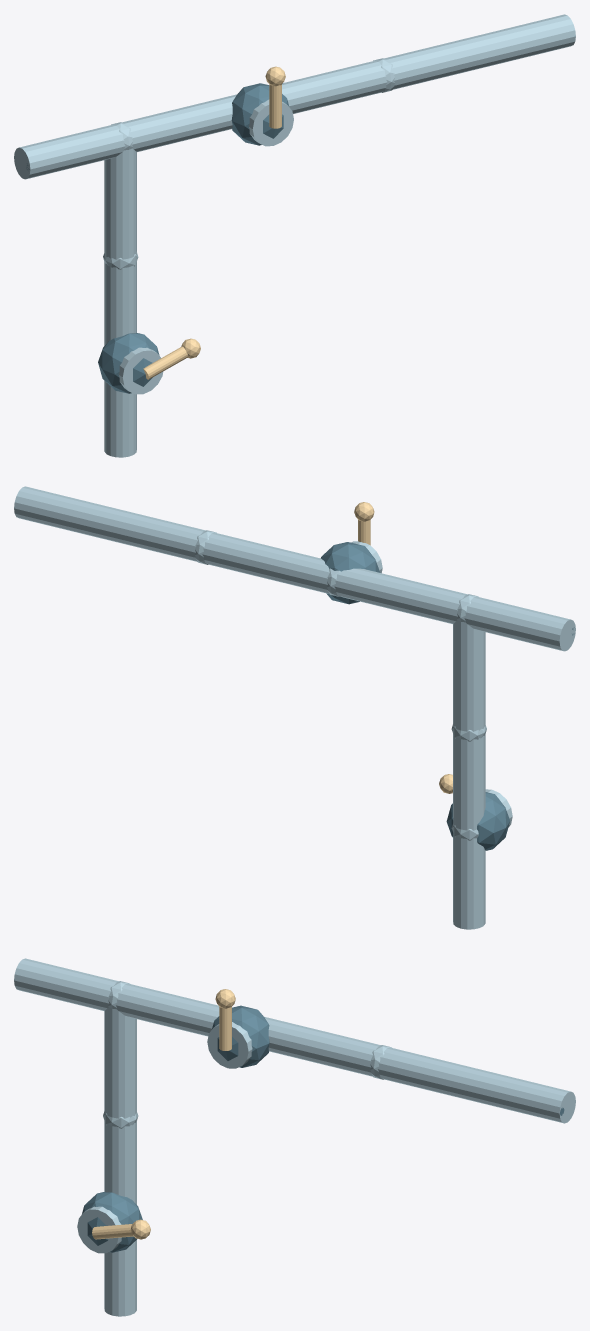
Rendered from water-01-0.glb.
The picture shows the model from 3 angles, top to bottom: view 1: azimuth 30°, elevation 25°; view 2: azimuth 150°, elevation 25°; view 3: azimuth 330°, elevation 25°; orthographic projection.
Visible parts, largest first — view 1: pipe, dark, handle; view 2: pipe, dark, handle; view 3: pipe, dark, handle.
Part boxes in pixels (x1,y1,x2,y2): pipe: (14, 14, 575, 457); dark: (26, 83, 289, 393); handle: (143, 66, 285, 379); pipe: (14, 486, 575, 929); dark: (321, 542, 574, 850); handle: (354, 502, 452, 793); pipe: (14, 958, 575, 1316); dark: (82, 1005, 564, 1252); handle: (92, 989, 235, 1239).
Bounding box in the file's own units: 2.77 × 1.79 × 0.343.
